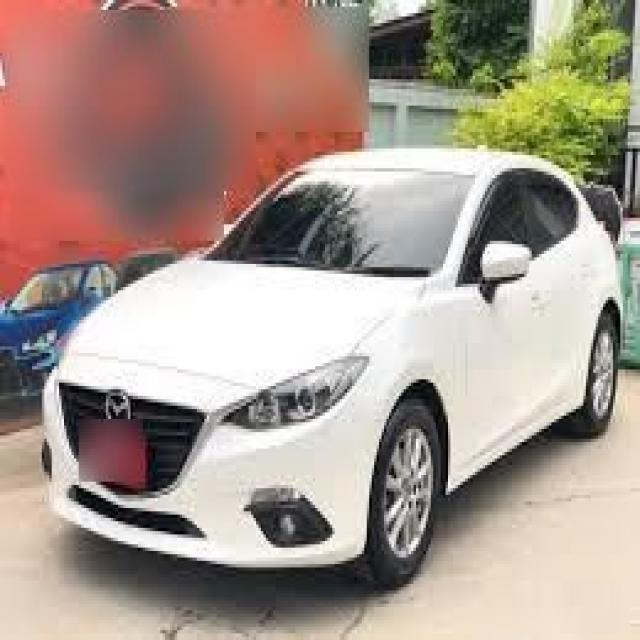back_left_door: (525, 167, 595, 413)
front_bumper: (43, 380, 385, 567)
front_glass: (205, 169, 475, 277)
front_left_door: (456, 165, 557, 462)
front_left_light: (221, 357, 372, 427)
hood: (62, 255, 428, 390)
left_mirror: (476, 240, 532, 304)
wheel: (354, 315, 621, 590)
